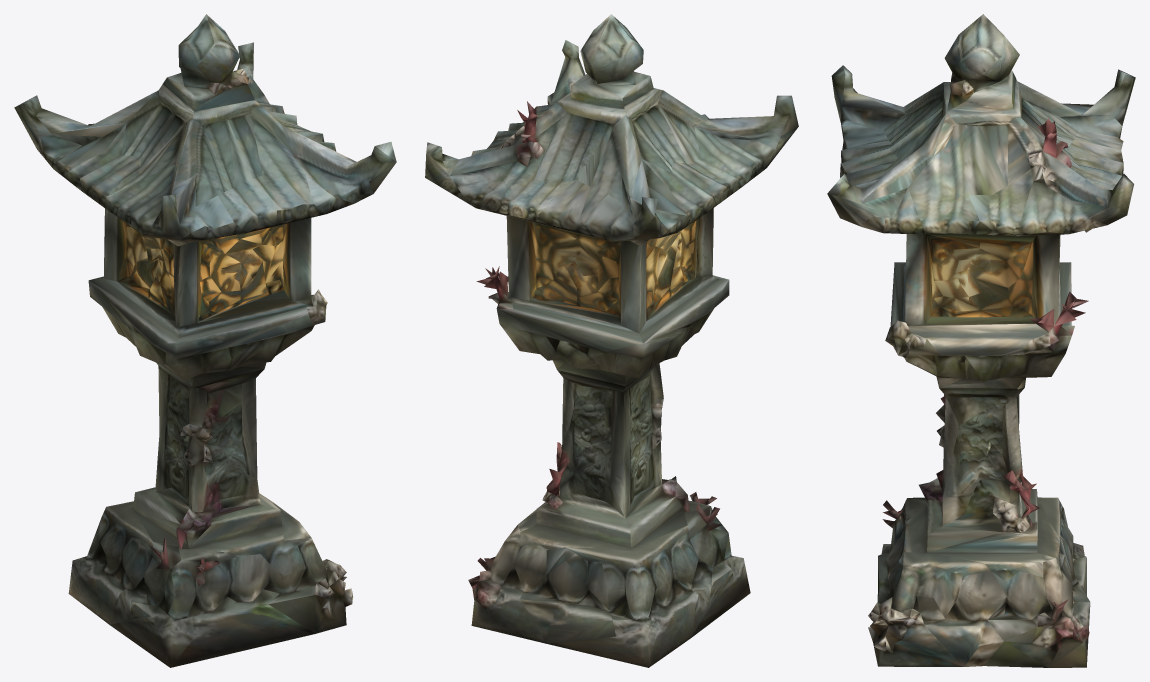
Rendered from lantern.glb.
The picture shows the model from 3 angles, left to right: view 1: azimuth 30°, elevation 25°; view 2: azimuth 150°, elevation 25°; view 3: azimuth 270°, elevation 25°; orthographic projection. The views are drawn at different scales.
Visible parts, largest first — view 1: tripo_node_d413df2d-0754-463f-a5dd-9ba359512fff; view 2: tripo_node_d413df2d-0754-463f-a5dd-9ba359512fff; view 3: tripo_node_d413df2d-0754-463f-a5dd-9ba359512fff.
Part boxes in pixels (x1=…): tripo_node_d413df2d-0754-463f-a5dd-9ba359512fff: x1=14, y1=14, x2=396, y2=667; tripo_node_d413df2d-0754-463f-a5dd-9ba359512fff: x1=425, y1=14, x2=798, y2=667; tripo_node_d413df2d-0754-463f-a5dd-9ba359512fff: x1=827, y1=14, x2=1135, y2=667.
Size of the model in its own units: 0.4007 by 0.9776 by 0.4486.
1 material, 1 textured.
